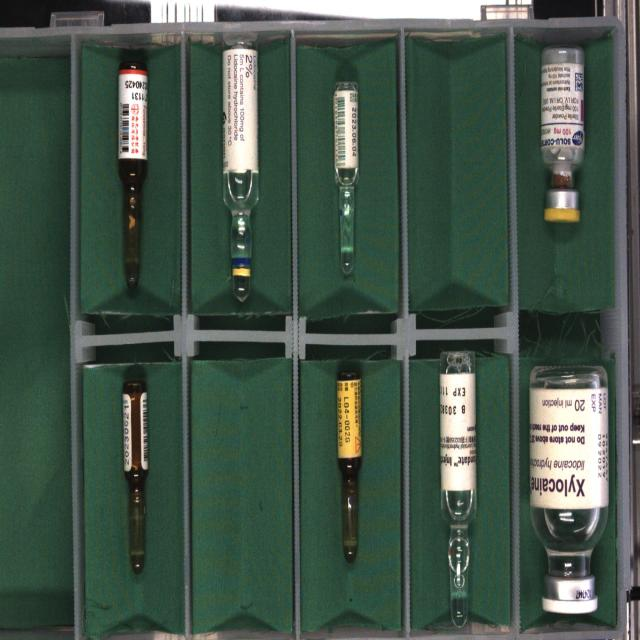Vials: (530, 366, 609, 614), (541, 47, 584, 223)
